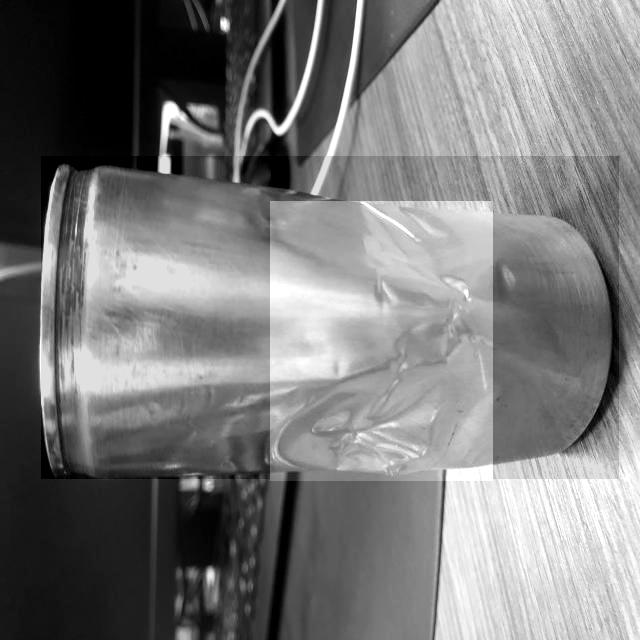deform: (270, 202, 493, 481)
metal: (42, 156, 619, 479)
